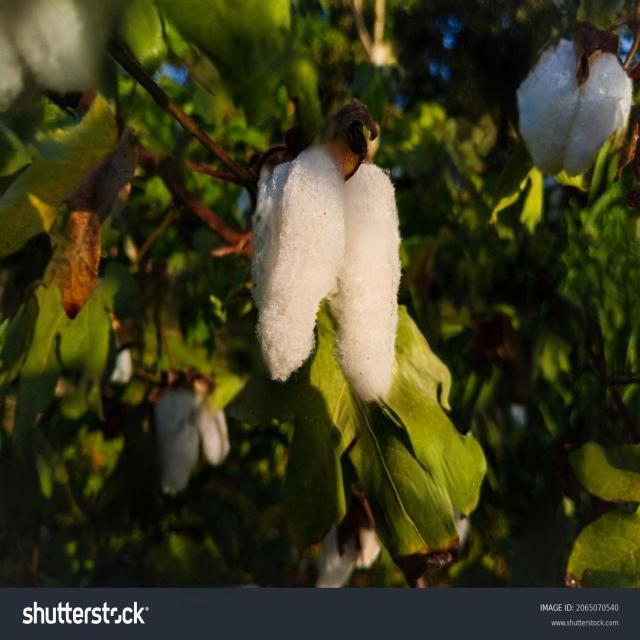Leaf: (230, 88, 402, 412), (515, 25, 638, 191), (147, 349, 242, 493)
